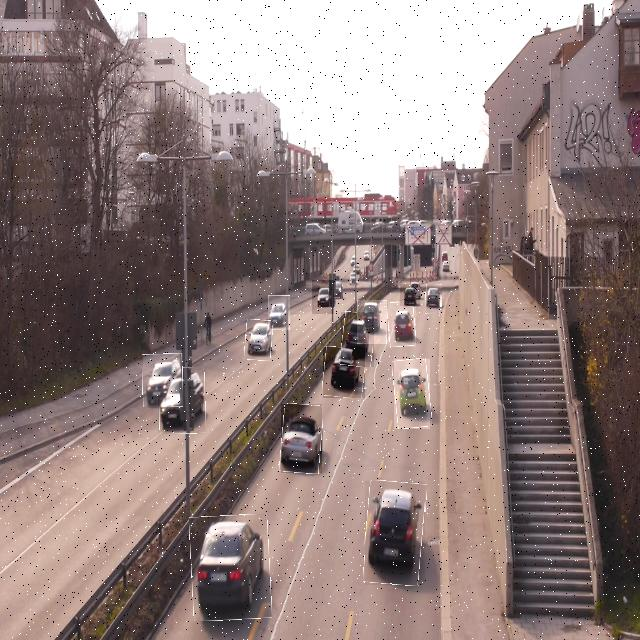Car: (190, 515, 272, 621), (366, 481, 426, 585), (158, 367, 206, 434), (281, 404, 322, 473), (394, 359, 430, 429), (323, 347, 365, 398), (143, 354, 183, 407), (341, 312, 374, 367), (357, 300, 387, 344), (388, 301, 416, 347), (245, 320, 273, 360), (268, 295, 290, 330), (312, 280, 334, 314), (426, 284, 442, 314), (400, 284, 420, 306)
